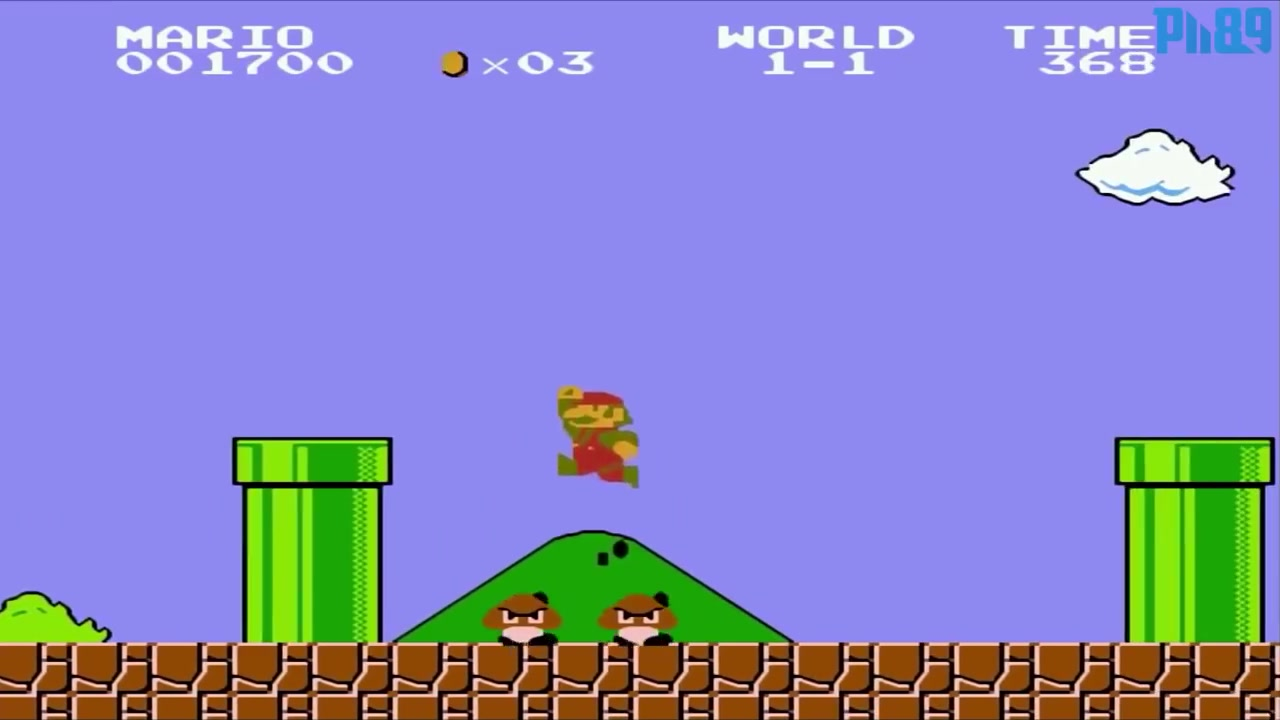mario: (540, 381, 649, 495)
